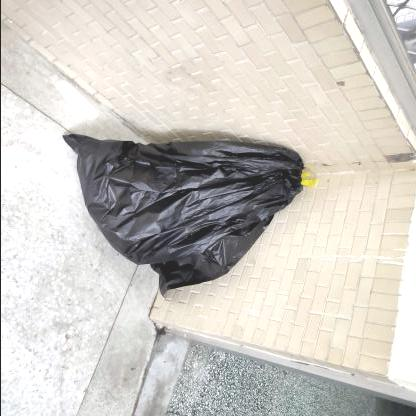black_bag: (62, 134, 314, 298)
